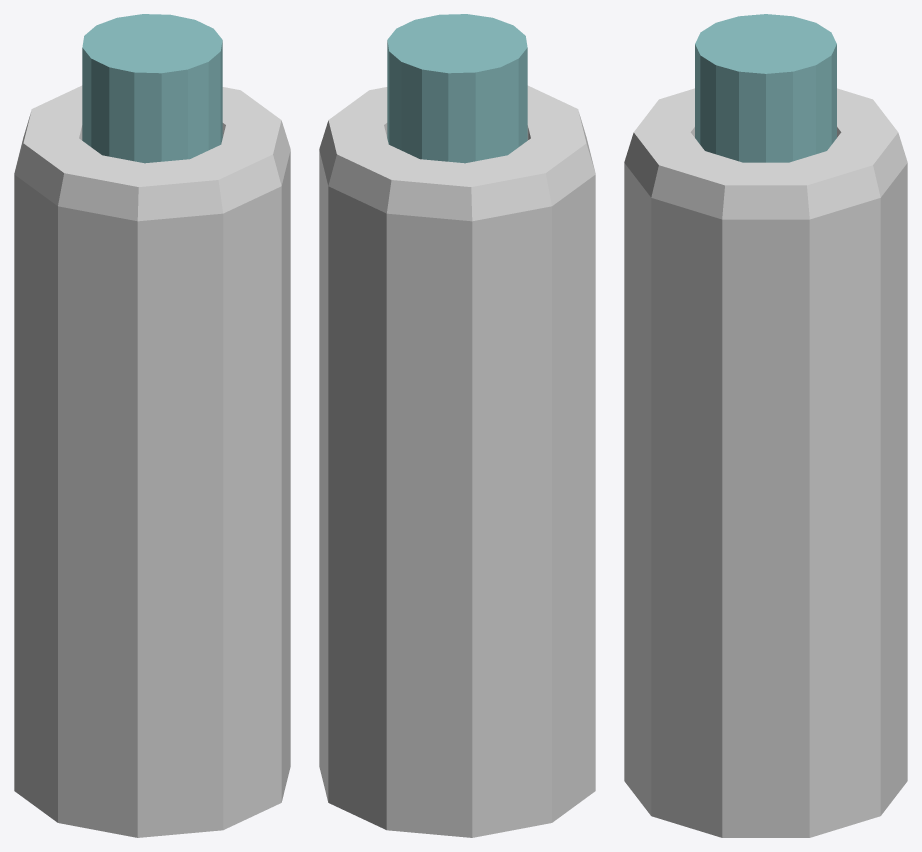
Rendered from extinguisher.fbx.
3 views of the same model, side by side, from view 1: azimuth 30°, elevation 25°; view 2: azimuth 150°, elevation 25°; view 3: azimuth 270°, elevation 25° (orthographic).
Parts seen in each view (by area): view 1: Body, Lid; view 2: Body, Lid; view 3: Body, Lid.
Part boxes in pixels (left/top/right/bottom): Body: left=14, top=85, right=290, bottom=837; Lid: left=82, top=14, right=222, bottom=163; Body: left=319, top=85, right=595, bottom=837; Lid: left=387, top=14, right=527, bottom=163; Body: left=624, top=88, right=907, bottom=837; Lid: left=695, top=14, right=836, bottom=162.
Size of the model in its own units: 125 by 377 by 132.
